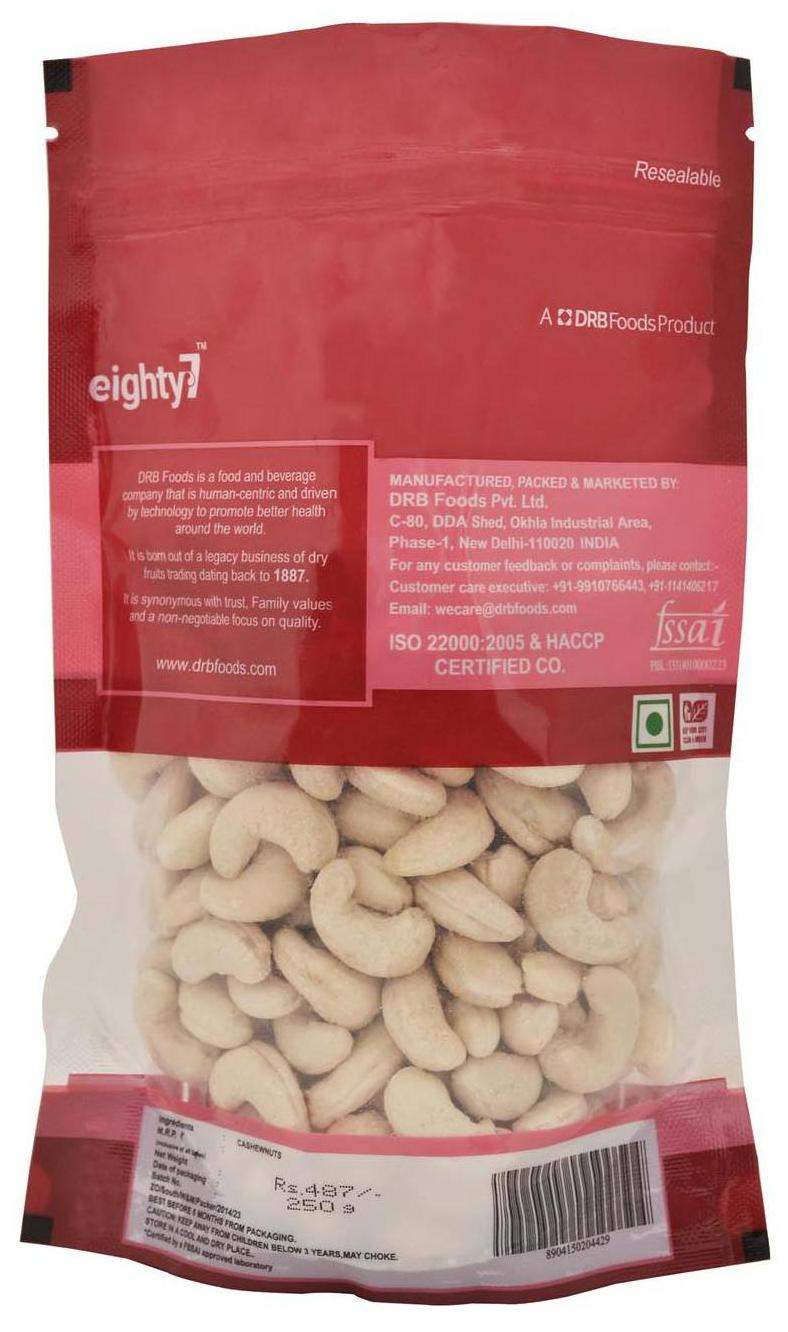fssai: (650, 599, 730, 650)
